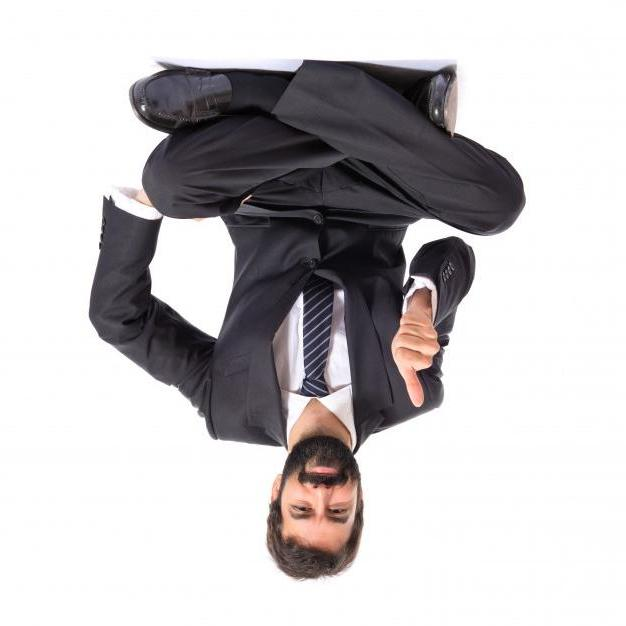thumbsdown: (396, 312, 440, 407)
